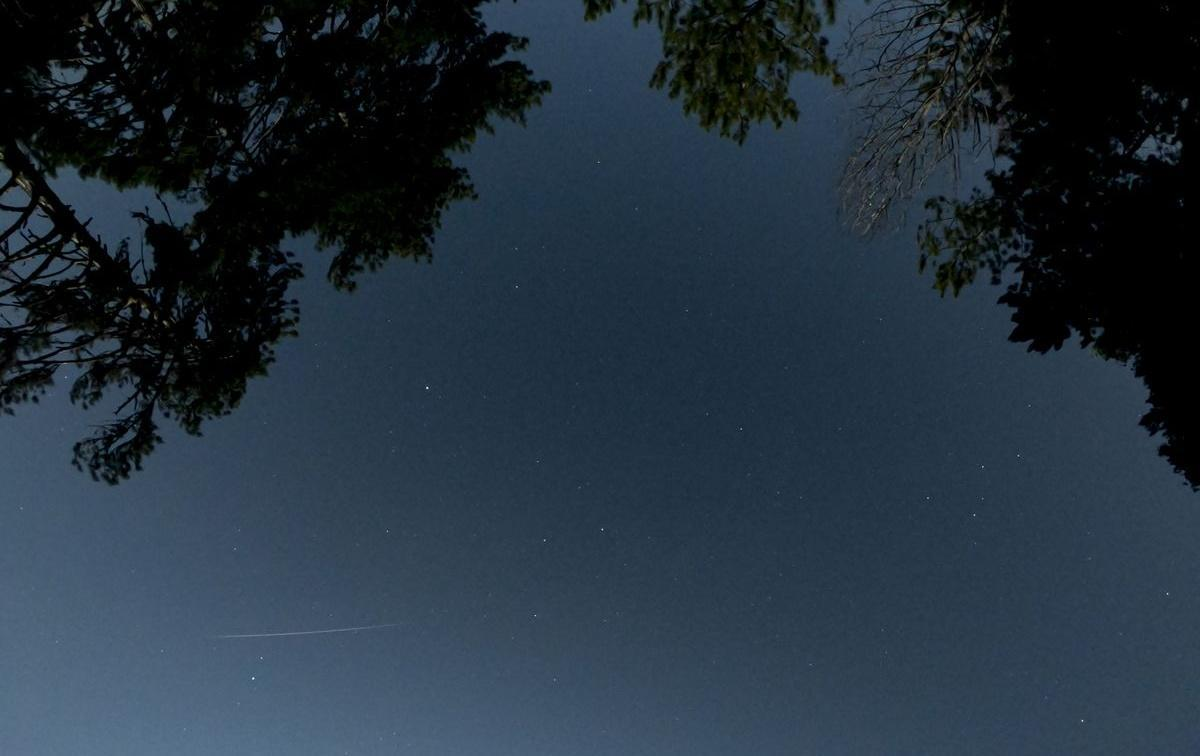meteorite: (216, 612, 405, 645)
